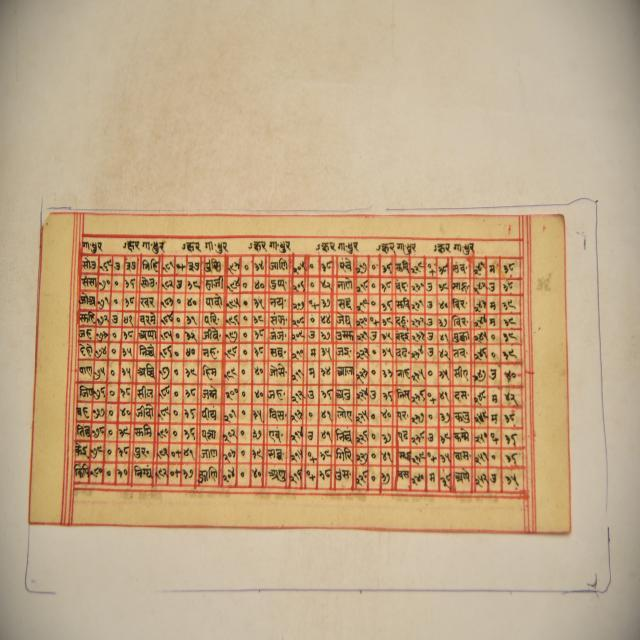text_paragraph: (24, 201, 571, 539)
